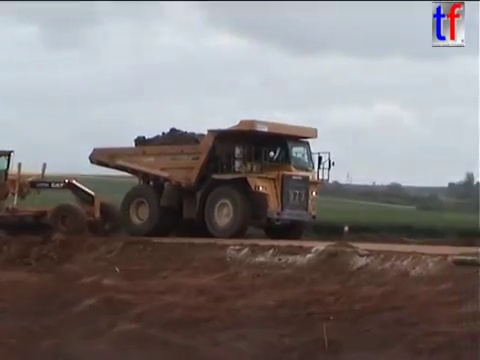motor grader: (1, 146, 123, 239)
truck: (86, 117, 337, 241)
